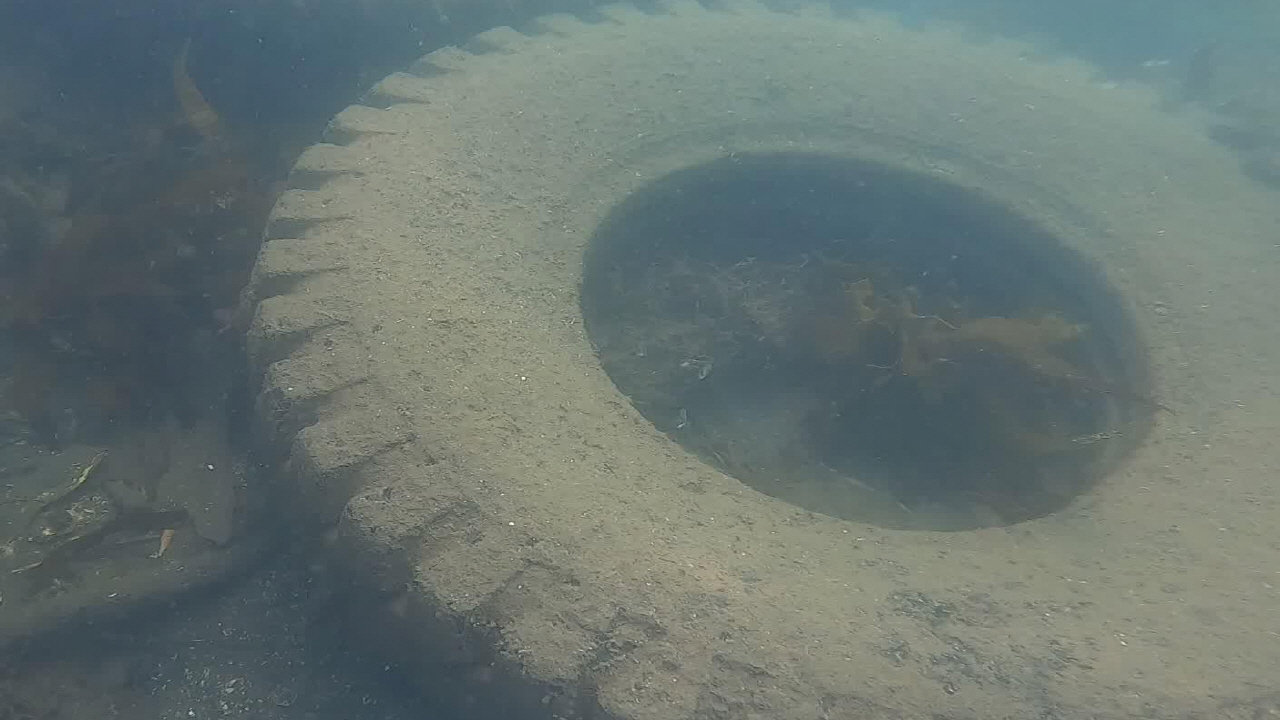tire: (232, 0, 1280, 720)
